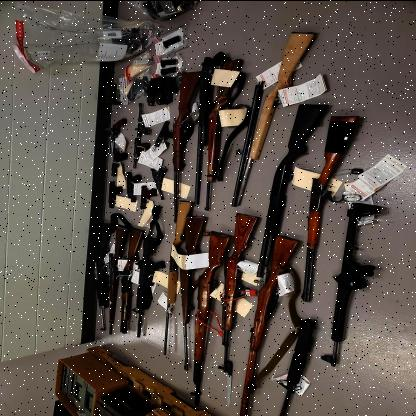rifle: (228, 29, 314, 212), (298, 114, 370, 300), (190, 227, 233, 398), (130, 232, 165, 336)
